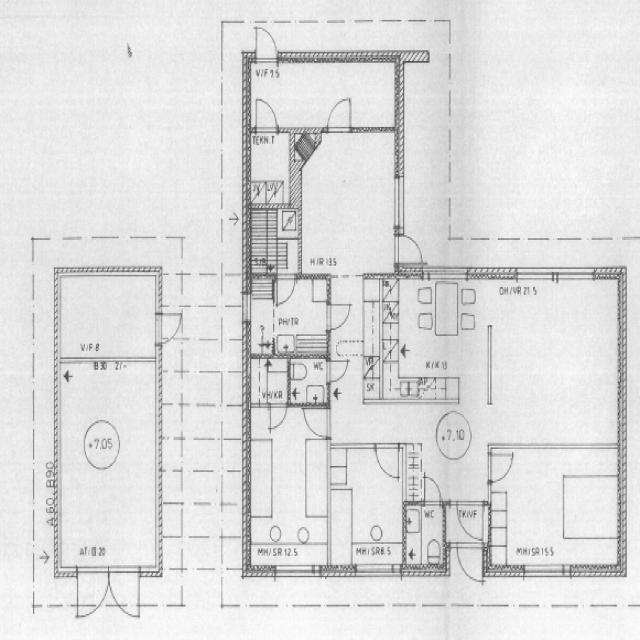door: (0, 13, 235, 265), (434, 3, 636, 263), (485, 275, 615, 449), (485, 443, 625, 576), (255, 276, 324, 344), (389, 230, 427, 269), (454, 542, 484, 585), (455, 501, 486, 542), (373, 441, 403, 483), (484, 447, 516, 486), (302, 403, 332, 441), (252, 94, 279, 136), (325, 95, 354, 134), (322, 300, 353, 334), (253, 25, 278, 67), (273, 273, 298, 307), (420, 472, 442, 508), (266, 402, 288, 434), (324, 356, 349, 384)
window: (514, 264, 591, 287), (269, 563, 322, 583), (424, 263, 472, 284), (353, 562, 403, 582), (390, 172, 406, 233), (521, 563, 566, 582), (351, 123, 394, 138)
zone: (487, 442, 623, 578), (298, 127, 398, 278), (375, 278, 487, 405), (245, 404, 330, 570), (329, 444, 403, 573), (250, 278, 330, 358), (244, 128, 301, 210), (71, 567, 145, 622), (402, 504, 446, 572), (248, 356, 290, 406), (288, 356, 329, 405), (484, 447, 518, 488), (153, 307, 184, 346)
